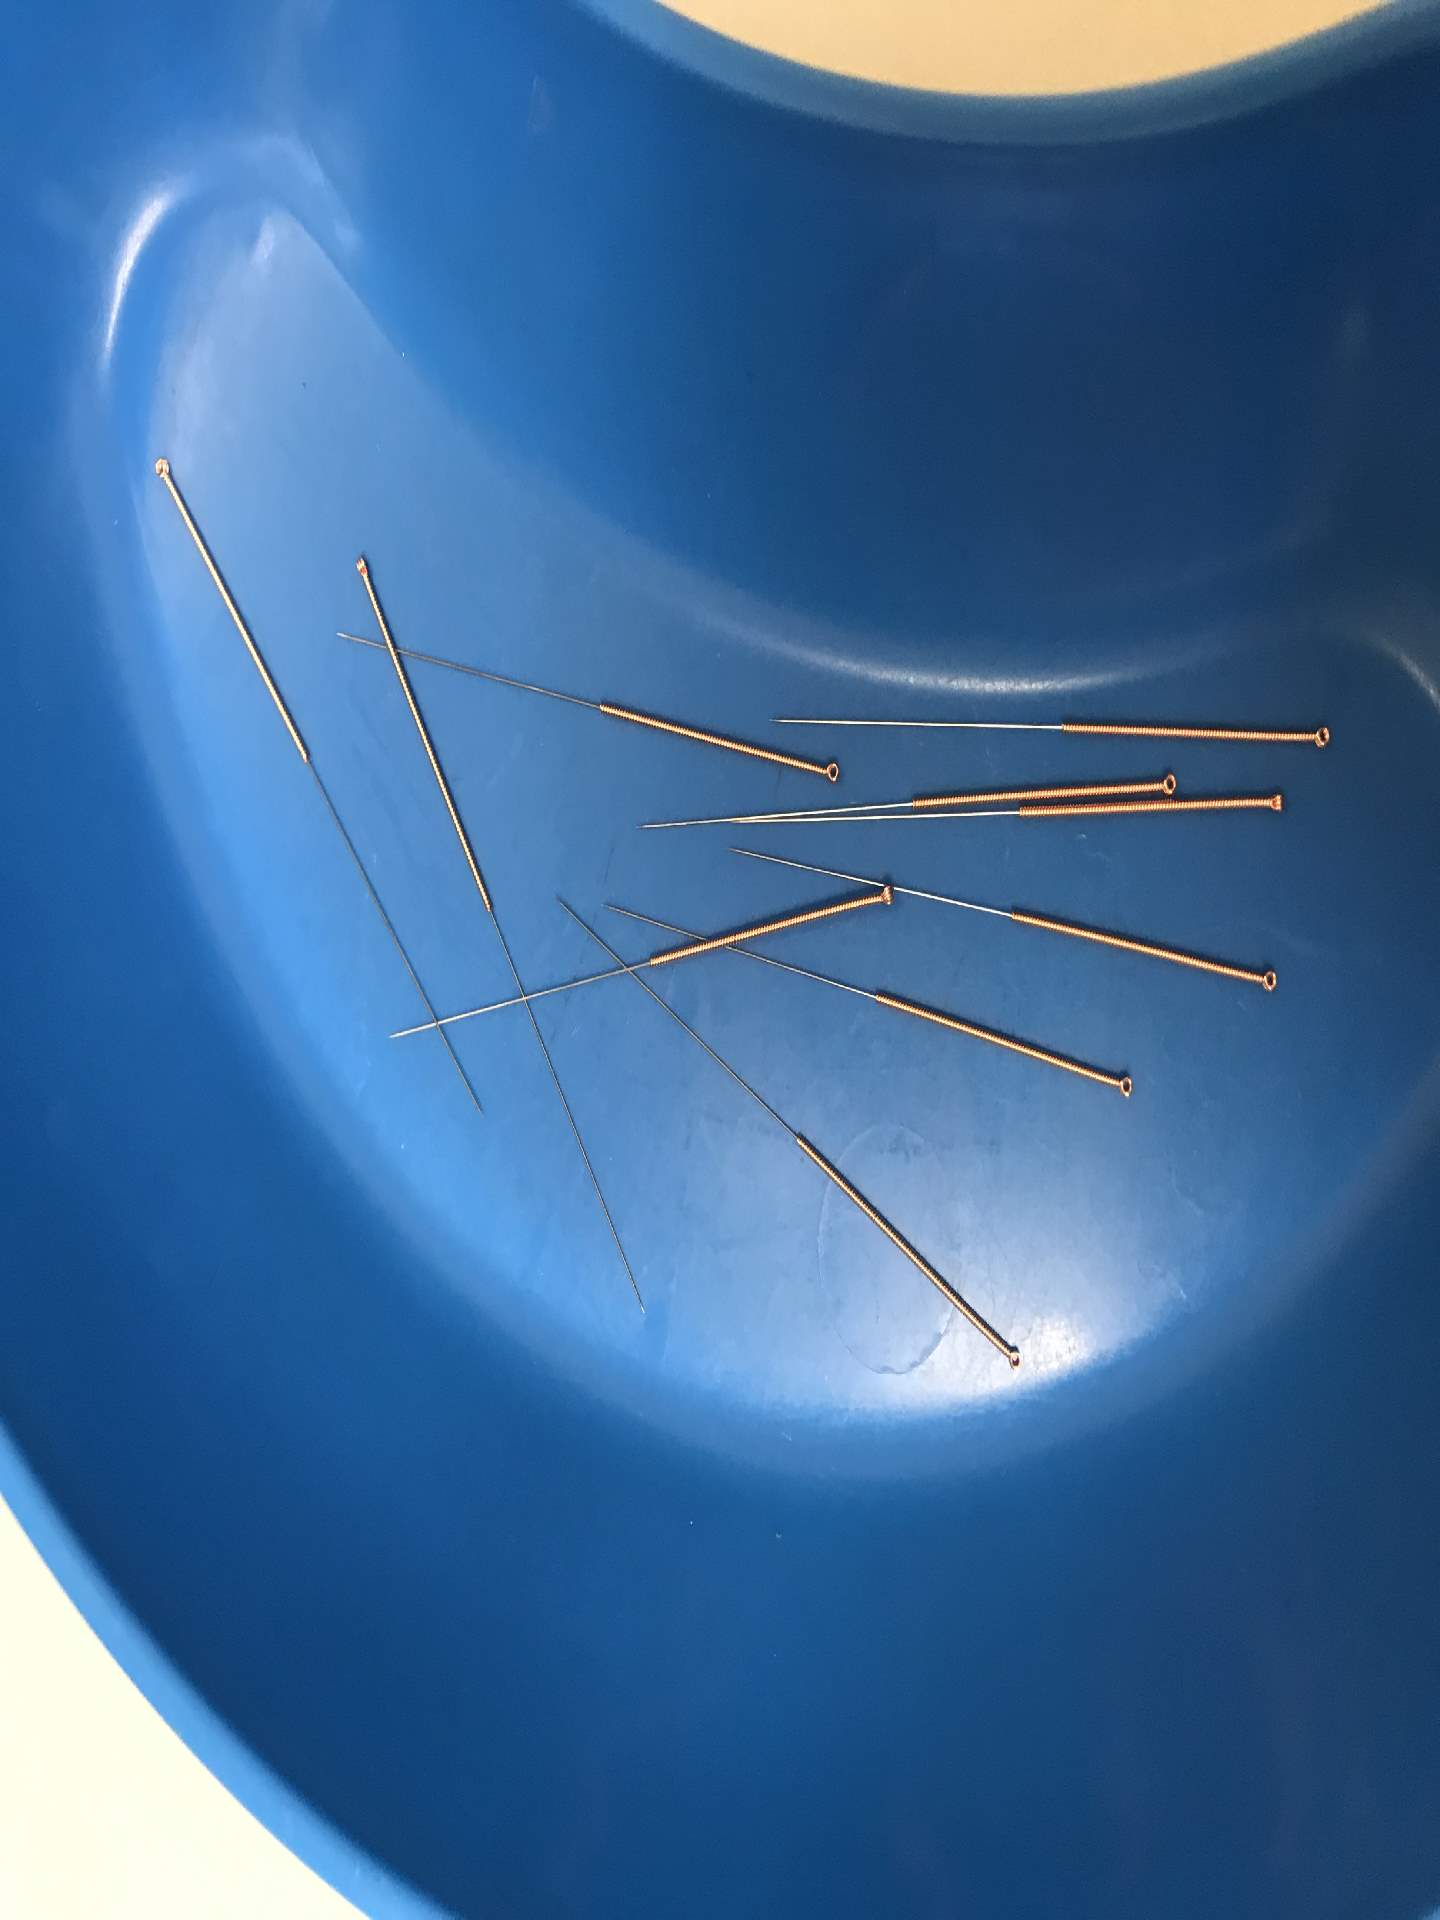needle: (1298, 714, 1339, 759), (1246, 958, 1286, 1002), (864, 872, 902, 918), (343, 546, 380, 591), (1106, 1064, 1141, 1108), (144, 449, 178, 491), (1254, 783, 1290, 821), (994, 1338, 1029, 1377), (812, 754, 847, 791), (1150, 766, 1183, 801)
